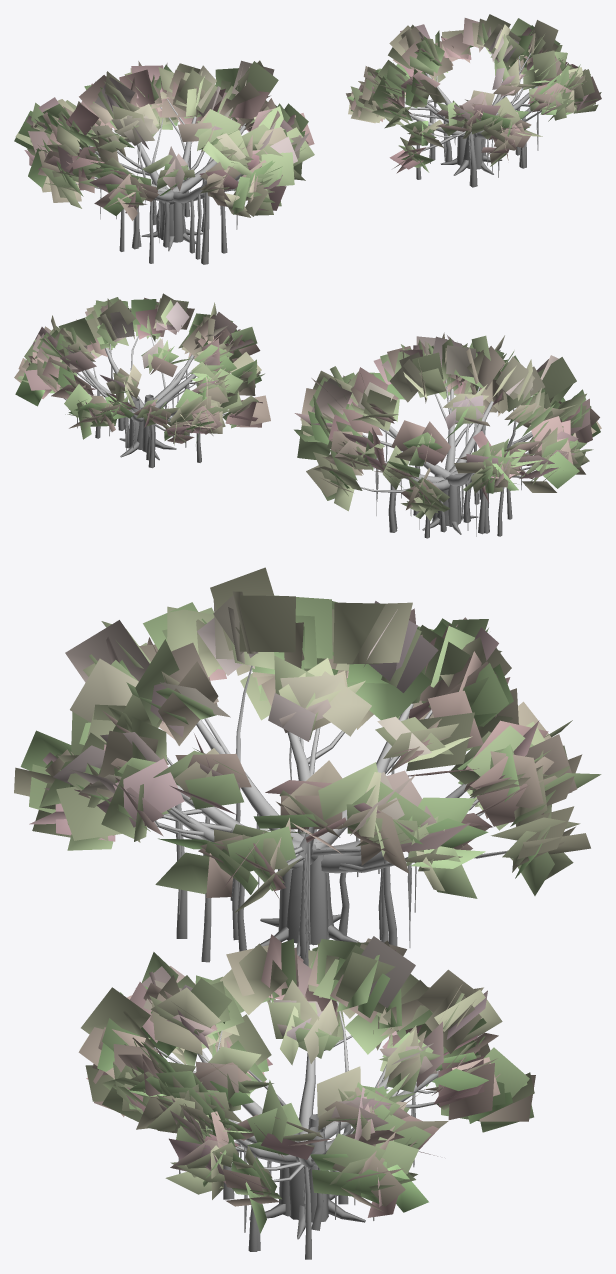
File: Banyan.fbx
3 views of the same model, one above another, from view 1: azimuth 30°, elevation 25°; view 2: azimuth 150°, elevation 25°; view 3: azimuth 270°, elevation 25° (orthographic). The views are drawn at different scales.
Visible parts, largest first — view 1: Banyan_A_LOD0, Banyan_B_LOD0; view 2: Banyan_A_LOD0, Banyan_B_LOD0; view 3: Banyan_A_LOD0, Banyan_B_LOD0.
Boxes of the visible parts, x1,y1,x2,y2 form: Banyan_A_LOD0: (14, 60, 314, 264); Banyan_B_LOD0: (346, 14, 601, 187); Banyan_A_LOD0: (294, 332, 601, 538); Banyan_B_LOD0: (14, 293, 270, 468); Banyan_A_LOD0: (14, 567, 601, 966); Banyan_B_LOD0: (78, 934, 535, 1259).
Size of what is drawn, in the model's own units: 51.66 by 14.61 by 25.41.
